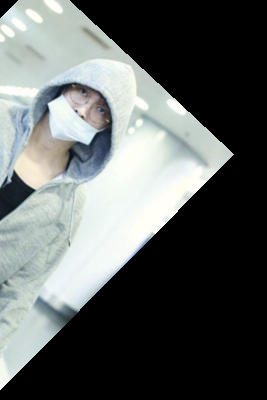mask_weared_incorrect: (35, 55, 147, 163)
